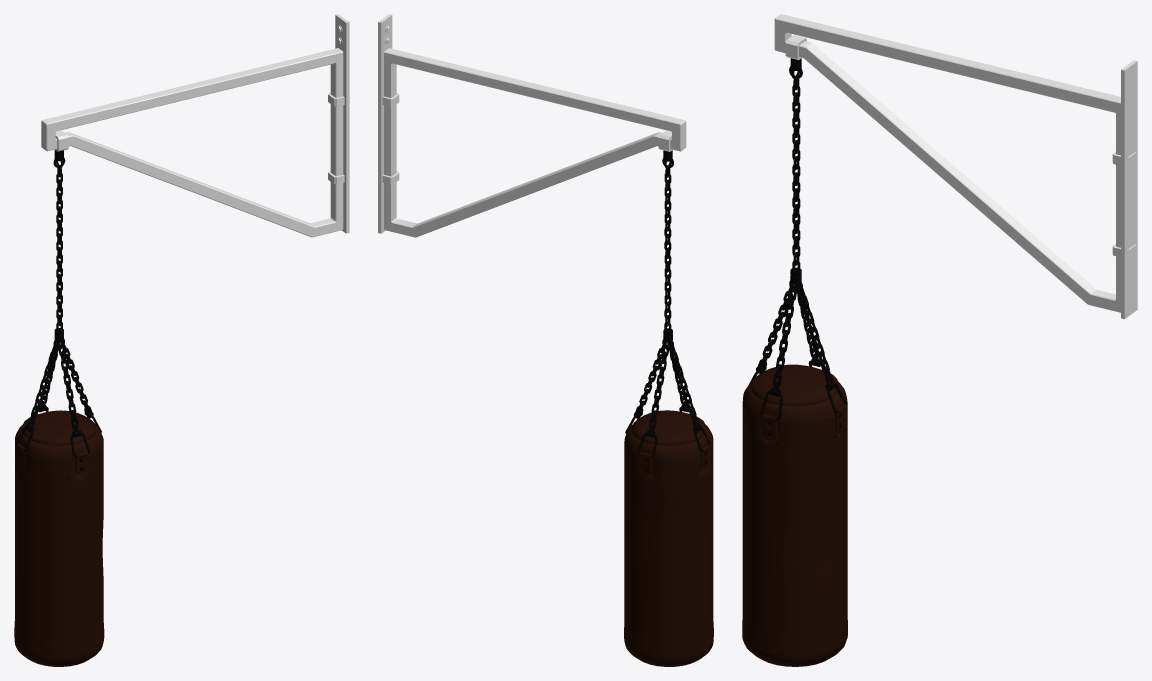
File: Punching bag.FBX
The picture shows the model from 3 angles, left to right: view 1: azimuth 30°, elevation 25°; view 2: azimuth 150°, elevation 25°; view 3: azimuth 330°, elevation 25°; orthographic projection. The views are drawn at different scales.
Parts seen in each view (by area): view 1: ChamferCy3, Line152, Box870; view 2: ChamferCy3, Line152, Box870; view 3: ChamferCy3, Line152, Box870.
Part boxes in pixels (x1,y1,x2,y2): ChamferCy3: (14, 410, 104, 666); Line152: (41, 48, 344, 237); Box870: (335, 14, 349, 233); ChamferCy3: (624, 410, 713, 666); Line152: (382, 48, 686, 237); Box870: (378, 14, 392, 233); ChamferCy3: (742, 364, 847, 666); Line152: (774, 14, 1135, 312); Box870: (1121, 60, 1137, 319).
Size of the model in its own units: 101 by 168 by 24.74.
